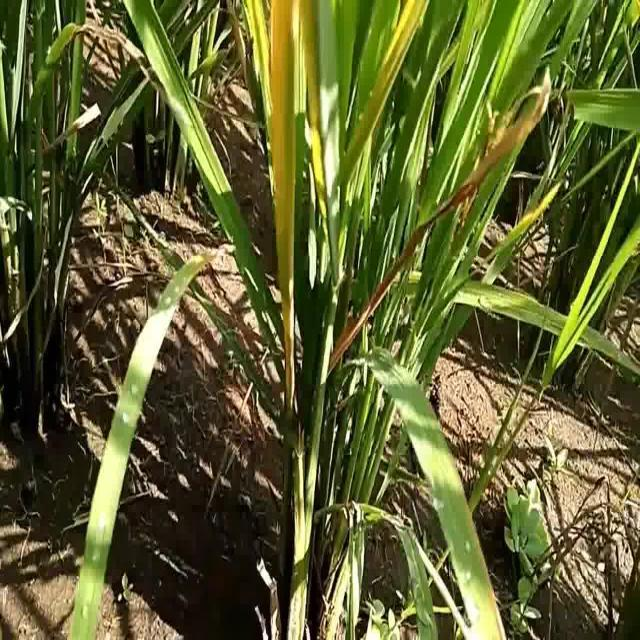Rice Tungro: (265, 6, 304, 415), (363, 3, 433, 134)
